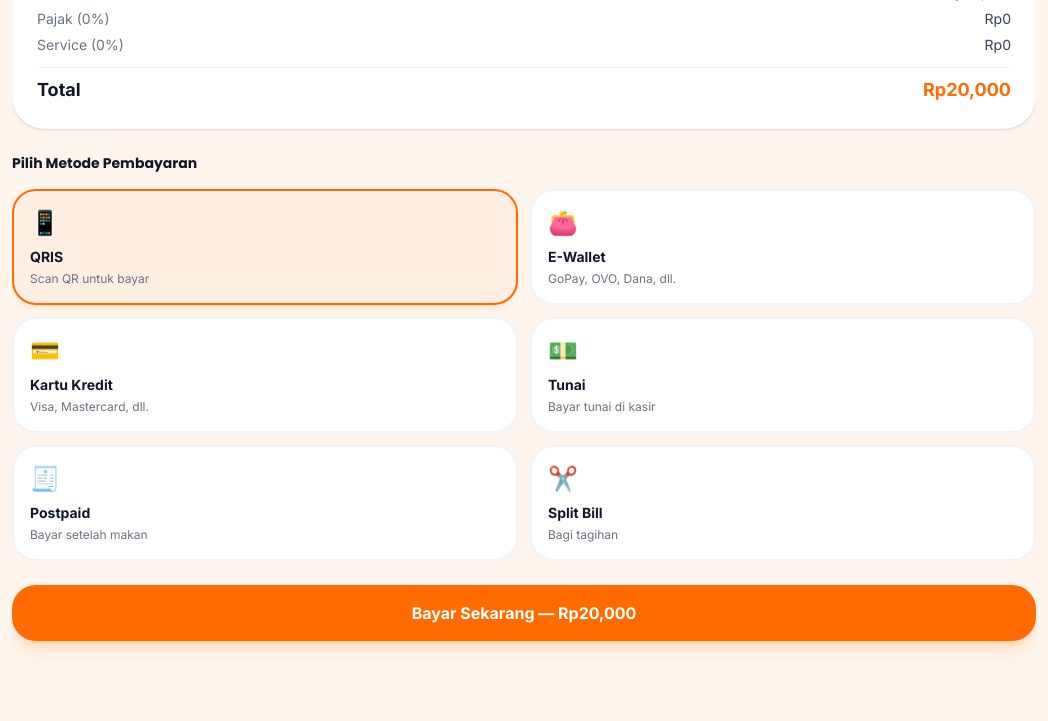
Scenario: PaymentPage — 409 PRICE_CHANGED (DR-11) › a malformed PRICE_CHANGED body falls back without dialog or retry
The width and height of the screenshot is (1048, 721).
(page scrolled)
Click the button "Bayar Sekarang — Rp20,000" at point(524, 613), box [12,585,1036,641]
(page scrolled)
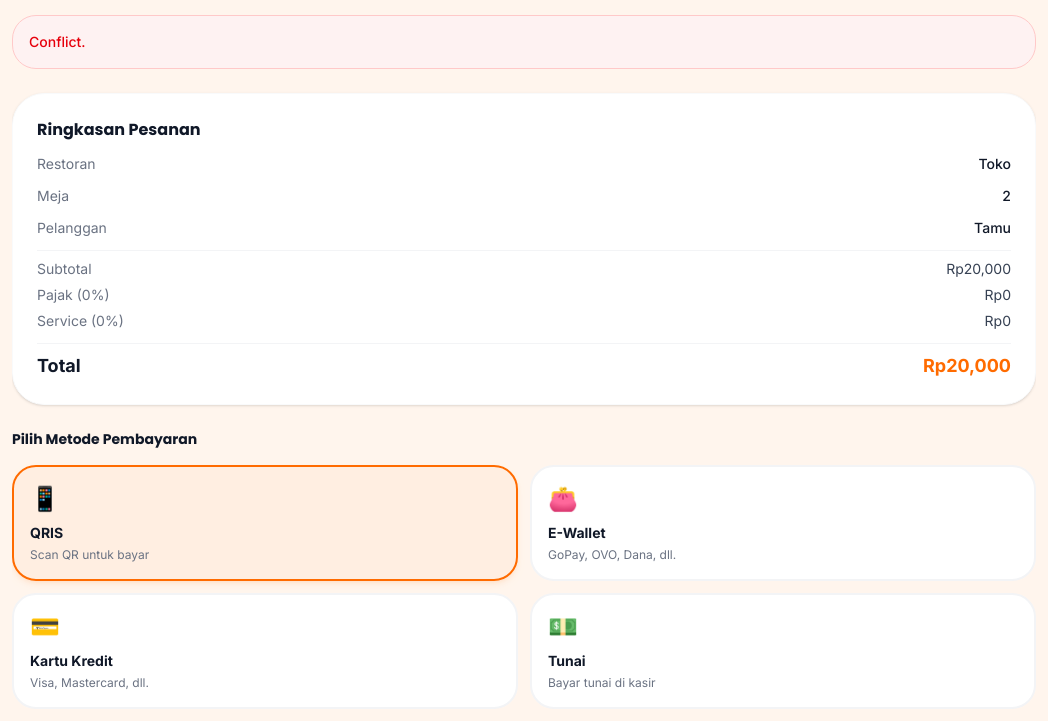
Expected: the text "Conflict." is shown, [29,33,86,50]
